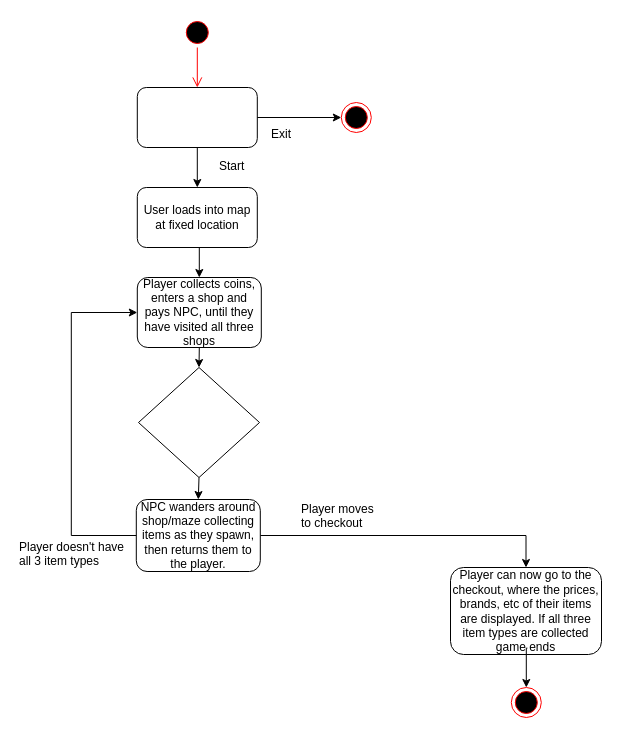
This 619x735 diagram has some shape labels left out. The centre of each missing label's shape, as x and y in pixels:
Main Menu/Start screen: the point at 196,117
User chooses item attributes, NPC start location and time limit: the point at 199,422
